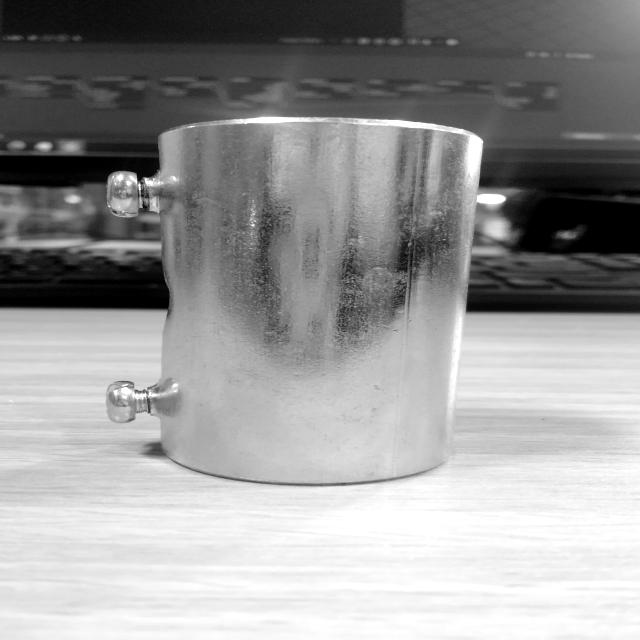Co_Nho: (89, 103, 492, 495)
